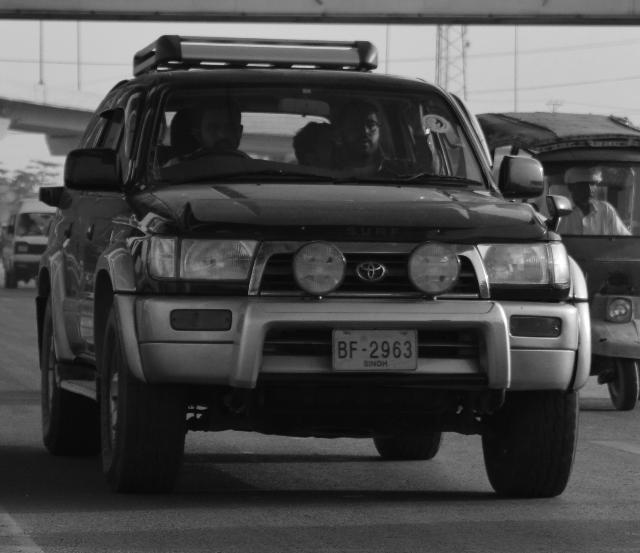Number: (334, 335, 416, 361)
